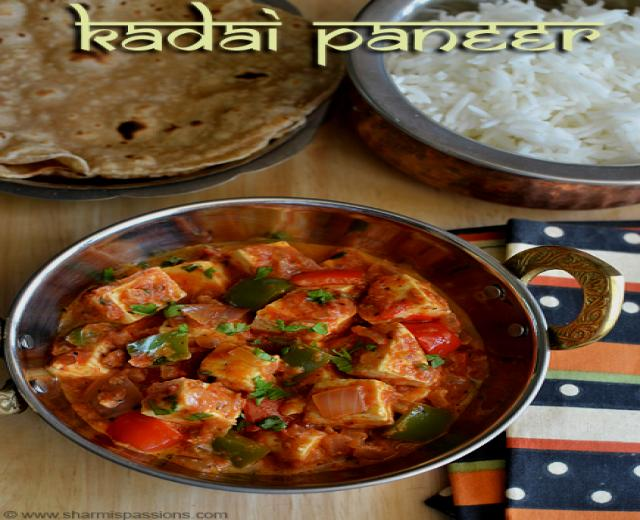kadai paneer: (6, 199, 571, 490), (0, 4, 340, 192), (340, 3, 633, 206), (525, 285, 637, 343)
